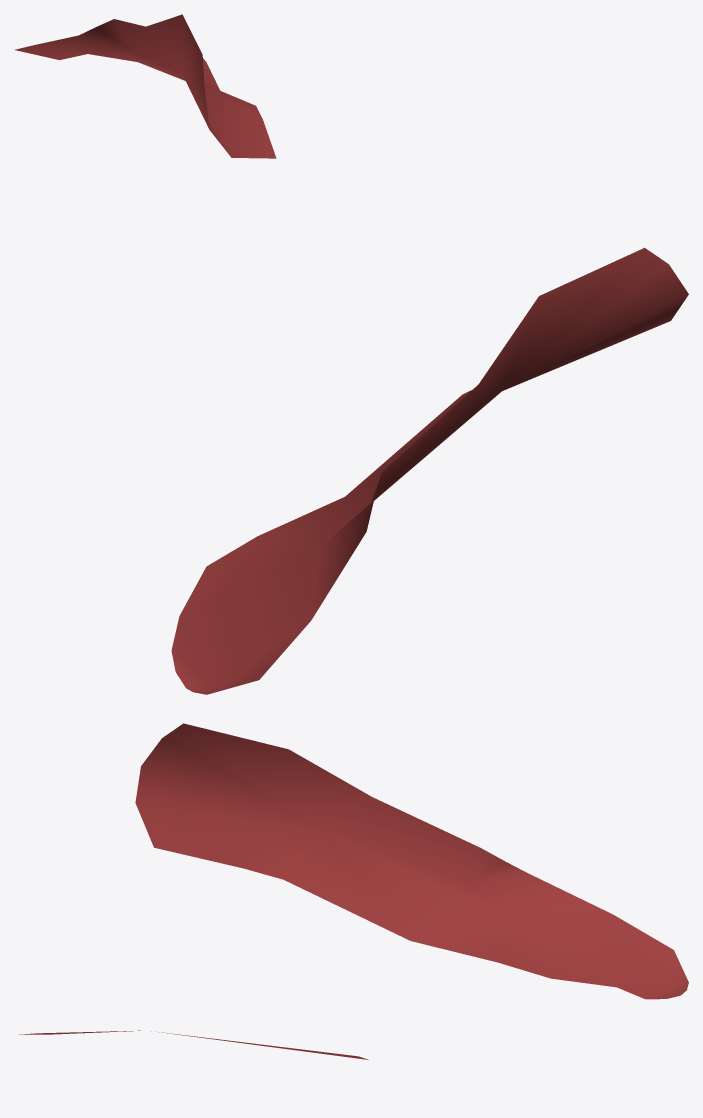
Rendered from flexor-digitorum-brevis-e1r.glb.
The picture shows the model from 3 angles, top to bottom: view 1: azimuth 30°, elevation 25°; view 2: azimuth 150°, elevation 25°; view 3: azimuth 270°, elevation 25°; orthographic projection. The views are drawn at different scales.
Visible parts, largest first — view 1: Flexor digitorum brevis.e1r; view 2: Flexor digitorum brevis.e1r; view 3: Flexor digitorum brevis.e1r.
Boxes of the visible parts, box(x1,y1,x2,y2) form: Flexor digitorum brevis.e1r: box(14, 14, 276, 158); Flexor digitorum brevis.e1r: box(171, 247, 688, 694); Flexor digitorum brevis.e1r: box(19, 723, 688, 1059).
Size of the model in its own units: 0.00552 by 0.00279 by 0.00811.
